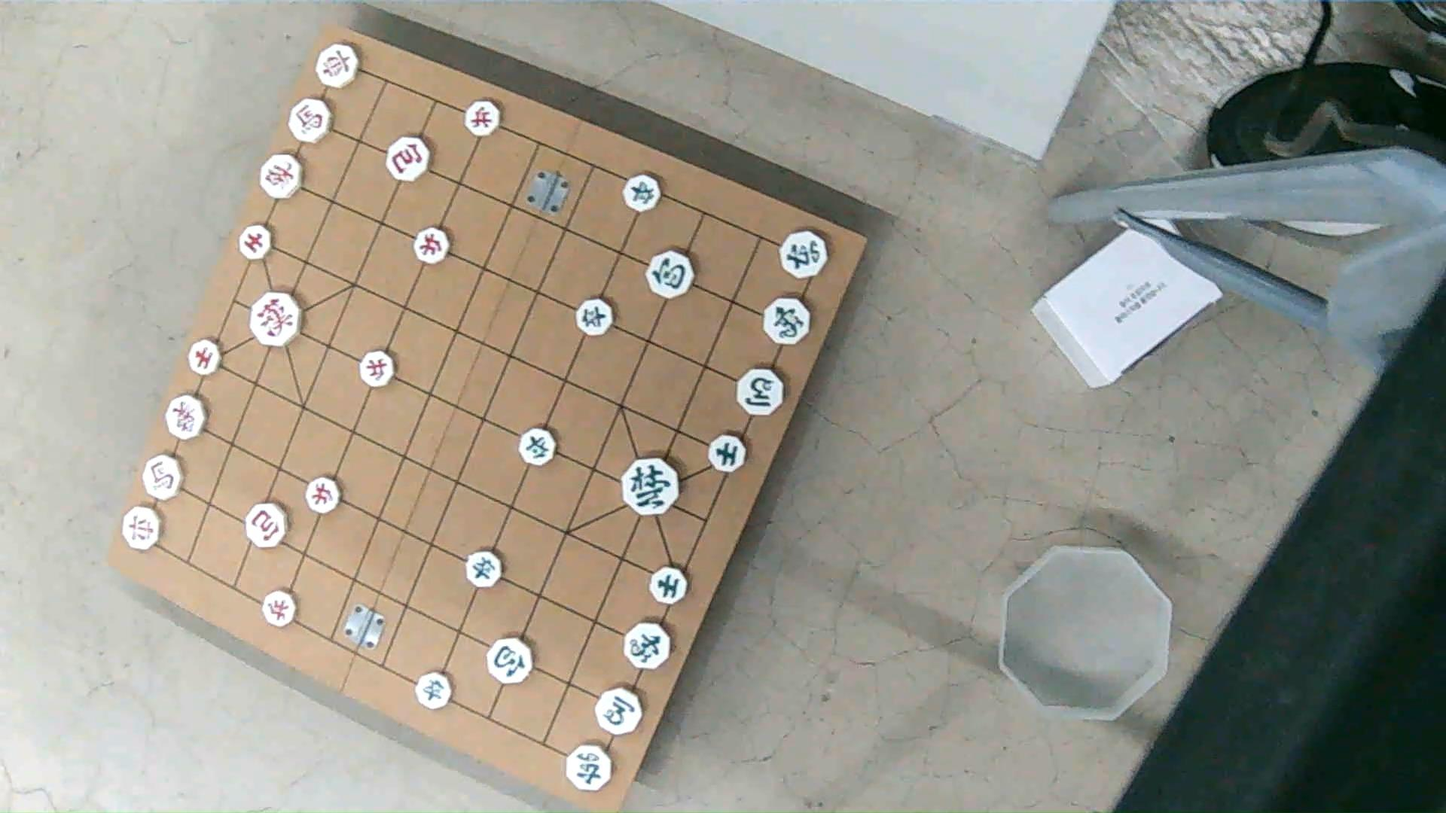cha_green: (562, 742, 612, 790), (779, 230, 829, 277)
cha_red: (313, 44, 358, 90), (125, 508, 166, 551)
jol_green: (411, 671, 451, 709), (465, 548, 504, 586), (624, 175, 661, 214), (578, 298, 615, 336), (517, 428, 554, 466)
jol_red: (464, 101, 501, 139), (261, 590, 297, 627), (413, 227, 449, 264), (304, 477, 340, 513), (358, 350, 395, 385)
ma_green: (735, 367, 783, 414), (597, 689, 644, 736)
ma_red: (289, 101, 333, 145), (142, 454, 183, 499)
po_green: (646, 251, 694, 299), (487, 637, 533, 684)
po_red: (246, 503, 289, 548), (389, 136, 432, 181)
sa_green: (709, 435, 746, 473), (650, 565, 687, 603)
sa_red: (186, 340, 221, 376), (237, 225, 271, 260)
sang_green: (766, 297, 813, 346), (623, 621, 670, 669)
sang_red: (164, 398, 206, 443), (259, 156, 301, 200)
wang_green: (624, 458, 681, 517)
wang_red: (249, 294, 300, 347)
